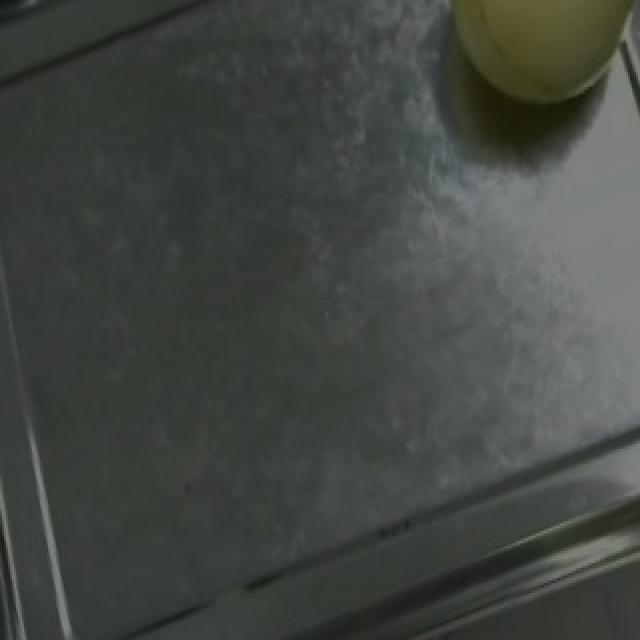Fruit: (406, 0, 640, 139)
